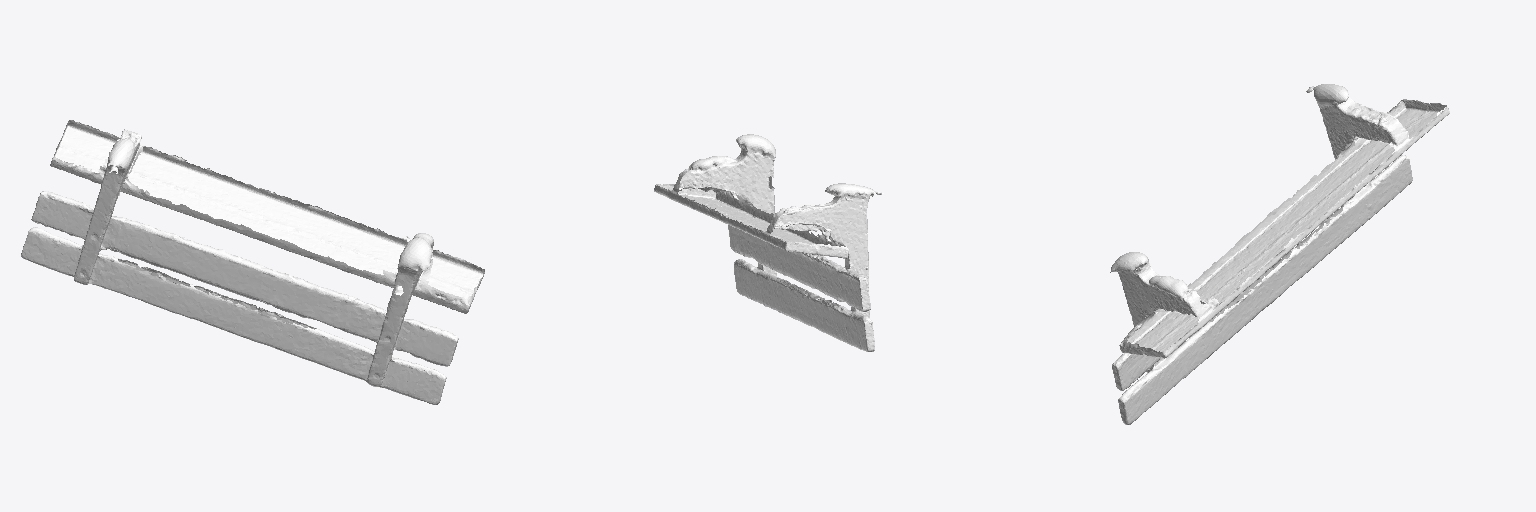
File: parkbankje.obj
3 views of the same model, side by side, from view 1: azimuth 30°, elevation 25°; view 2: azimuth 150°, elevation 25°; view 3: azimuth 270°, elevation 25° (orthographic).
Bounding box in the file's own units: 2.7 × 1.78 × 2.32.